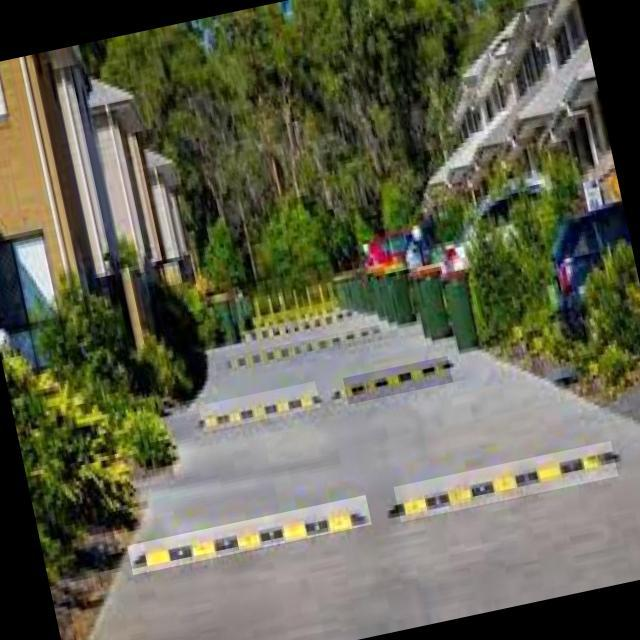speedbreaker: (126, 494, 372, 574), (392, 441, 618, 522), (214, 324, 382, 374), (198, 381, 320, 432), (342, 355, 452, 404)
